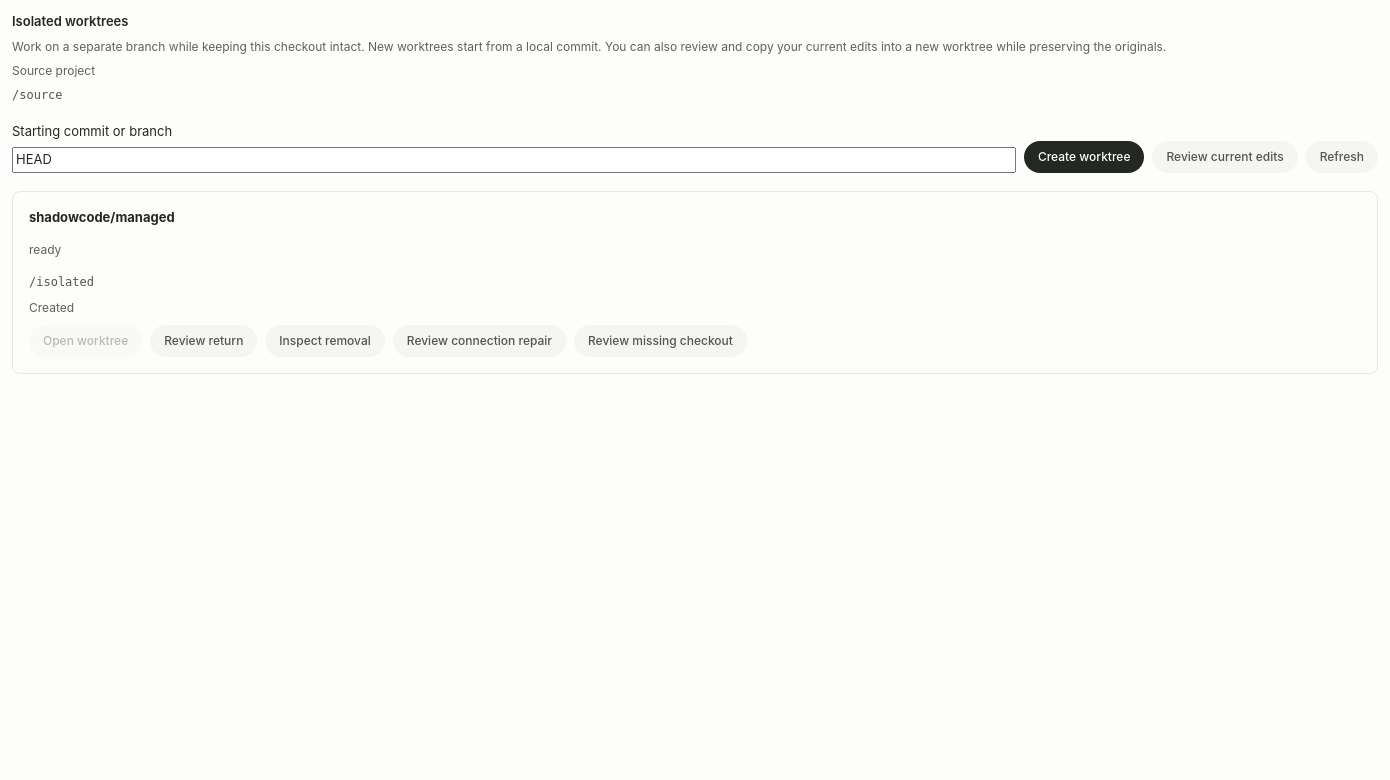
Test: blocks dirty removal and clears a stale review after server rejection
This screenshot has width=1390, height=780.
Click the button "Inspect removal" at (325, 341), box [265,325,385,357]
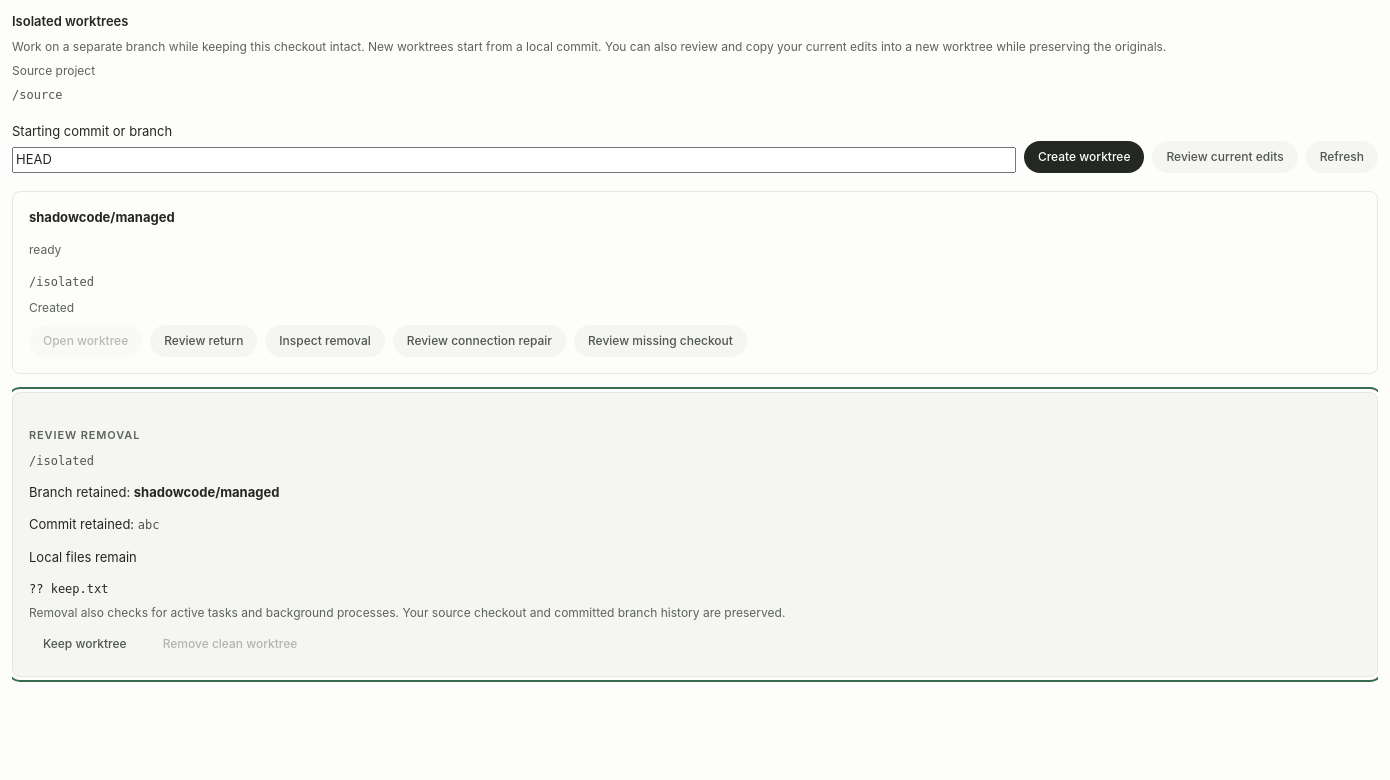
Expected: the text "Local files remain" is shown, [29,548,137,564]
Expected: the button "Remove clean worktree" is disabled, [149,628,311,660]
Click the button "Keep worktree" at (85, 644), box [29,628,141,660]
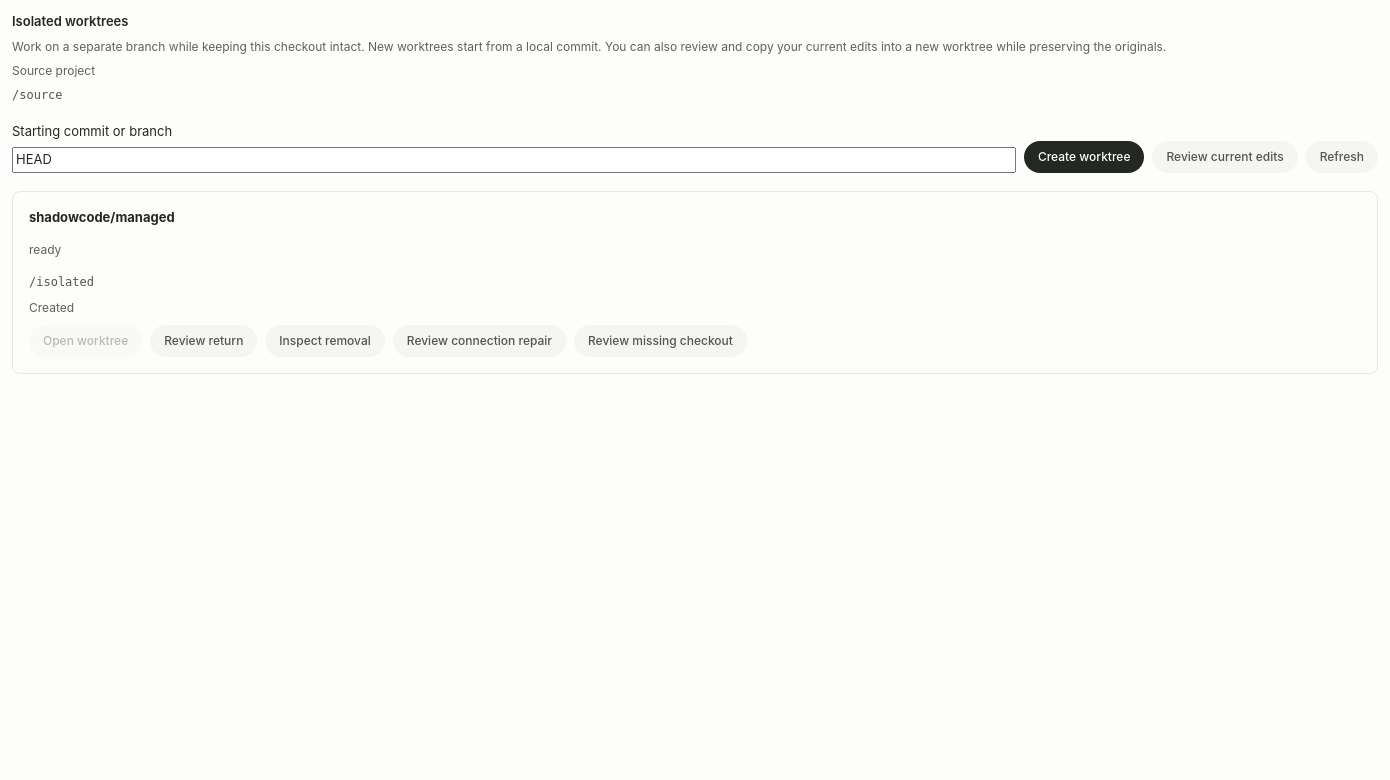
Click the button "Inspect removal" at (325, 341), box [265,325,385,357]
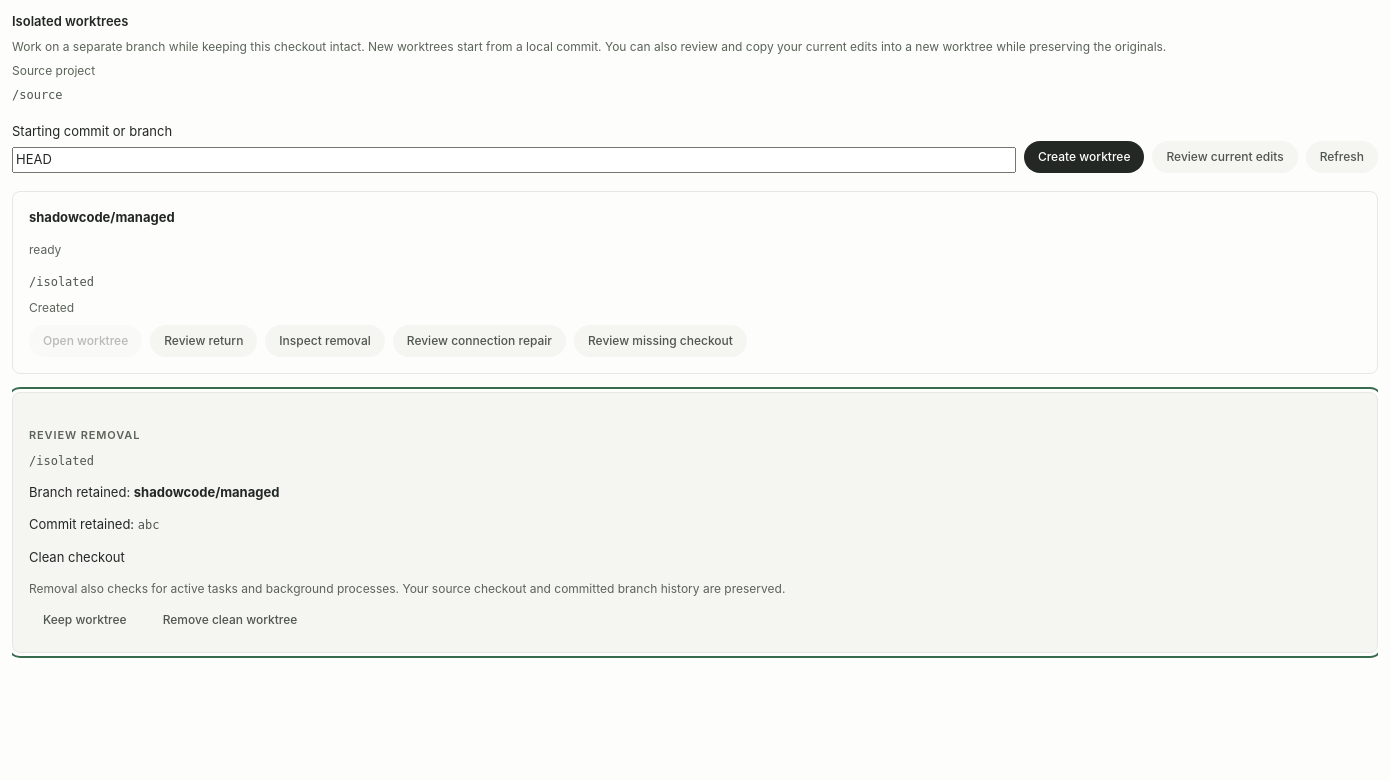
Expected: the button "Remove clean worktree" is shown
Click the button "Remove clean worktree" at (230, 620), box [149,604,311,636]
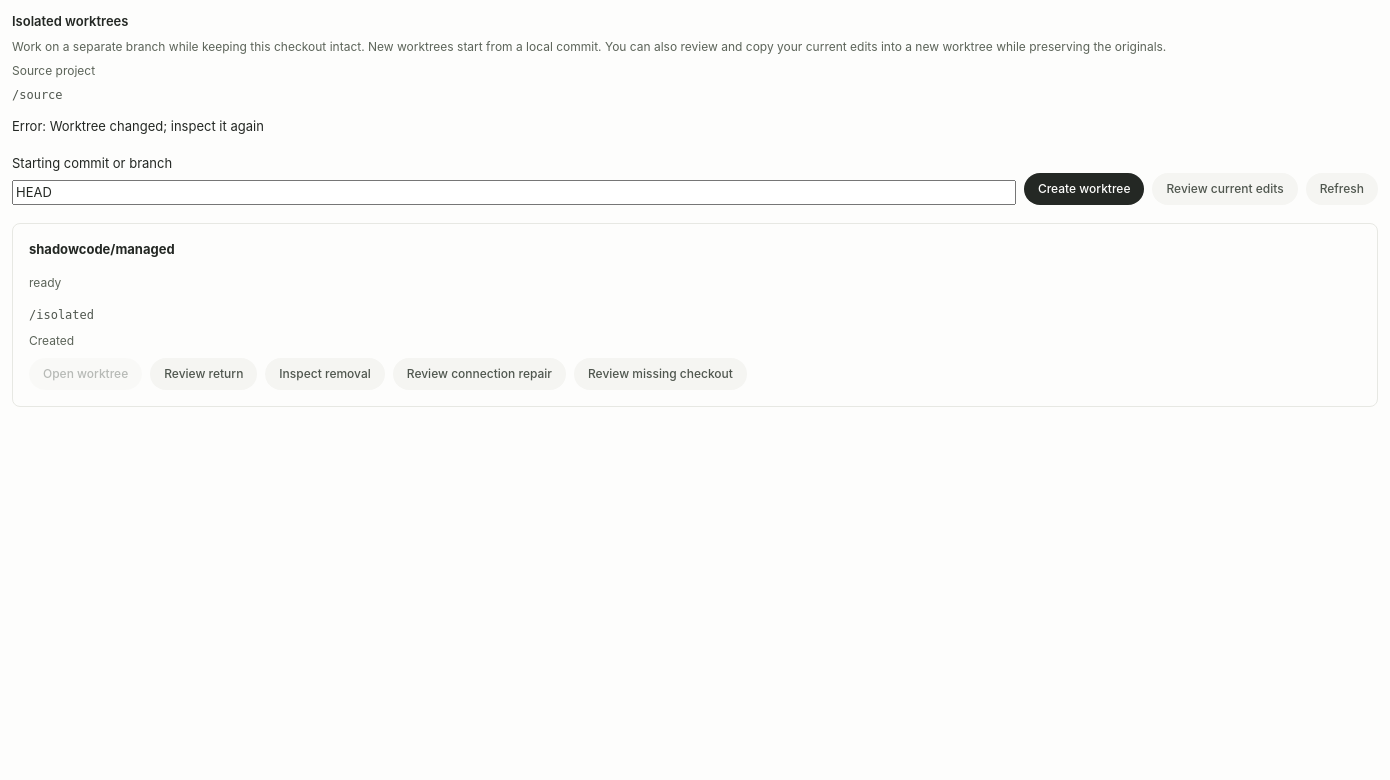
Expected: the message "Error: Worktree changed; inspect it again" is shown, [12,118,264,134]
